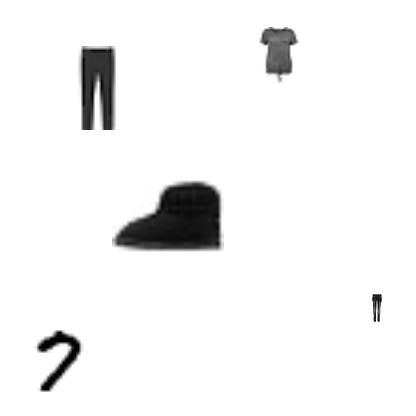7: (17, 313, 101, 397)
Ankle_boot: (112, 158, 224, 270)
Shirt: (250, 27, 306, 83)
Trouser: (55, 46, 139, 130), (363, 294, 391, 322)
